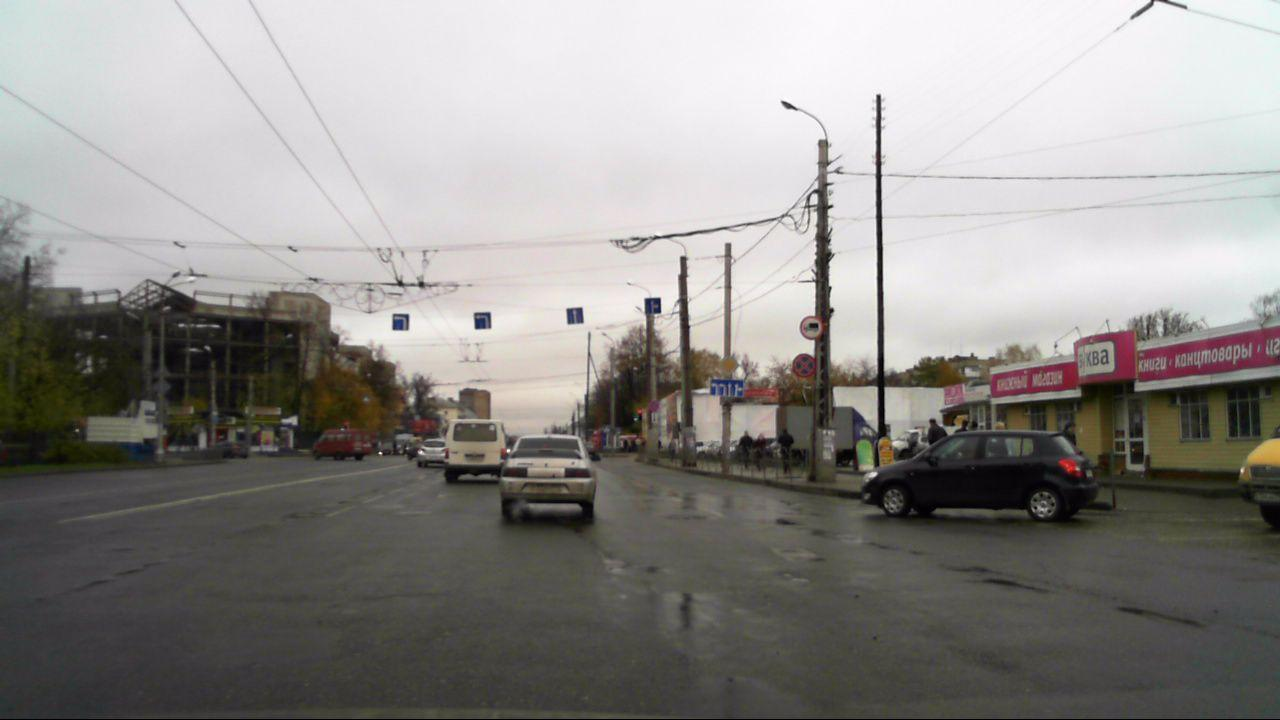road_sign: (800, 316, 824, 340), (717, 353, 741, 377), (710, 380, 743, 397), (793, 354, 816, 378), (473, 312, 492, 330), (392, 313, 409, 331), (566, 307, 584, 324), (644, 297, 662, 314)
